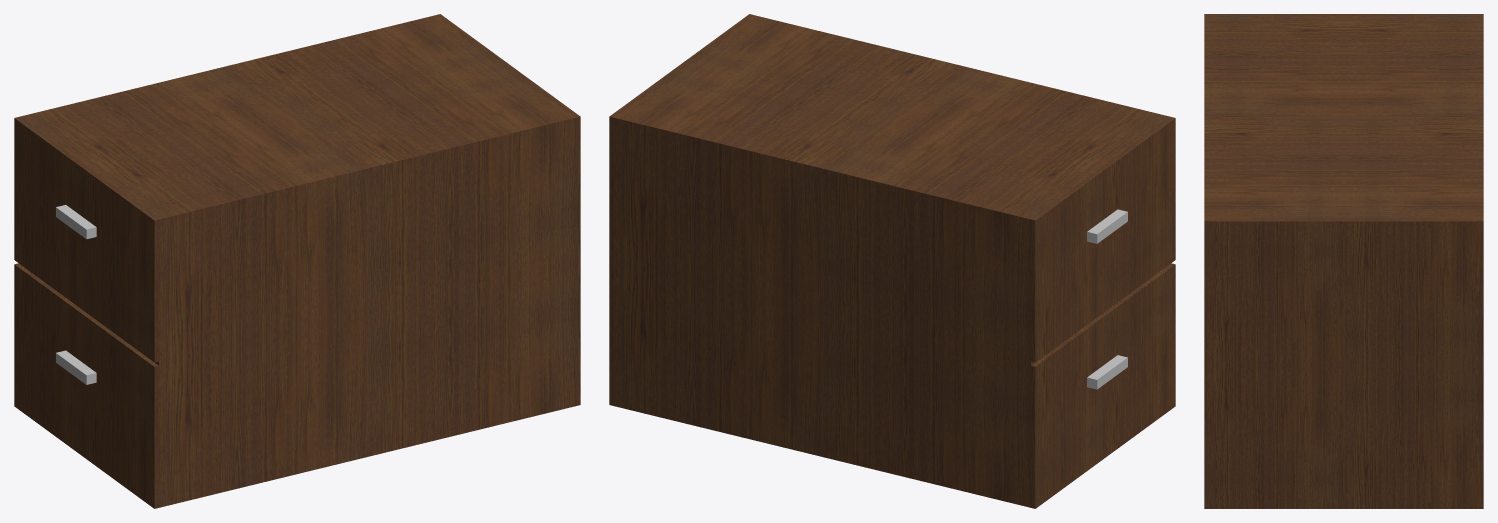
The model's file is Desktop_Modified_2.fbx.
3 views of the same model, side by side, from view 1: azimuth 30°, elevation 25°; view 2: azimuth 150°, elevation 25°; view 3: azimuth 270°, elevation 25° (orthographic).
Visible parts, largest first — view 1: Desktop_1P_01.001; view 2: Desktop_1P_01.001; view 3: Desktop_1P_01.001.
Part boxes in pixels (x1,y1,x2,y2): Desktop_1P_01.001: [14, 14, 580, 508]; Desktop_1P_01.001: [609, 14, 1175, 508]; Desktop_1P_01.001: [1204, 14, 1483, 508].
Bounding box in the file's own units: 144 × 90.73 × 79.93.
